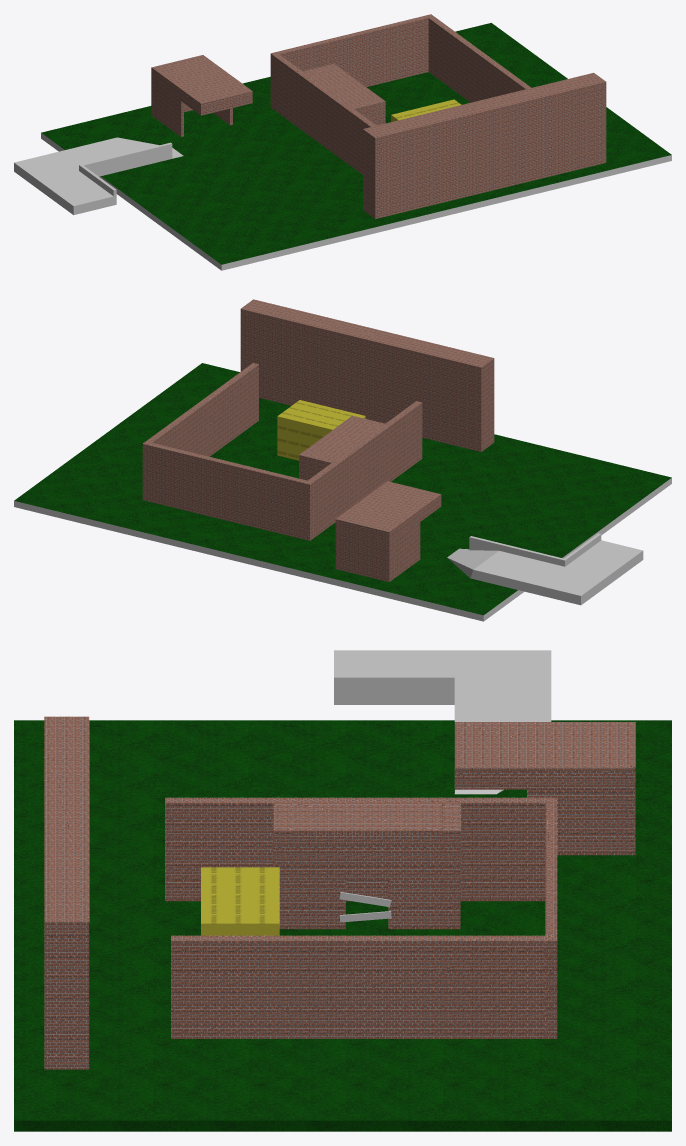
3 views of the same model, one above another, from view 1: azimuth 30°, elevation 25°; view 2: azimuth 150°, elevation 25°; view 3: azimuth 270°, elevation 25° (orthographic). The views are drawn at different scales.
Parts seen in each view (by area): view 1: entity0_brush11, entity0_brush3, entity0_brush2, entity0_brush0, entity0_brush1, entity0_brush4, entity0_brush14, entity0_brush13, entity0_brush16, entity0_brush7, entity0_brush12, entity0_brush18 (+2 smaller); view 2: entity0_brush11, entity0_brush3, entity0_brush2, entity0_brush0, entity0_brush1, entity0_brush4, entity3_brush0, entity0_brush13, entity0_brush17, entity0_brush12, entity0_brush14, entity0_brush7 (+3 smaller); view 3: entity0_brush11, entity0_brush1, entity0_brush0, entity0_brush3, entity0_brush4, entity3_brush0, entity0_brush7, entity0_brush9, entity0_brush8, entity0_brush13, entity0_brush19, entity0_brush15 (+7 smaller).
Part boxes in pixels (<box>): entity0_brush11: <box>41,23,671,270</box>; entity0_brush3: <box>363,72,606,218</box>; entity0_brush2: <box>270,15,433,109</box>; entity0_brush0: <box>273,54,376,174</box>; entity0_brush1: <box>425,14,531,102</box>; entity0_brush4: <box>151,55,252,115</box>; entity0_brush14: <box>39,171,113,215</box>; entity0_brush13: <box>14,148,92,189</box>; entity0_brush16: <box>82,142,172,176</box>; entity0_brush7: <box>308,67,380,105</box>; entity0_brush12: <box>75,137,183,161</box>; entity0_brush18: <box>156,83,183,137</box>; entity0_brush11: <box>14,363,671,621</box>; entity0_brush3: <box>240,299,494,451</box>; entity0_brush2: <box>142,441,313,540</box>; entity0_brush0: <box>308,401,422,537</box>; entity0_brush1: <box>142,363,258,465</box>; entity0_brush4: <box>335,481,441,544</box>; entity3_brush0: <box>277,400,365,460</box>; entity0_brush13: <box>518,561,606,605</box>; entity0_brush17: <box>335,528,394,581</box>; entity0_brush12: <box>447,548,543,589</box>; entity0_brush14: <box>565,540,643,585</box>; entity0_brush7: <box>304,419,379,458</box>; entity0_brush11: <box>14,720,671,1131</box>; entity0_brush1: <box>171,935,557,1038</box>; entity0_brush0: <box>165,797,545,901</box>; entity0_brush3: <box>44,716,89,1069</box>; entity0_brush4: <box>454,722,635,789</box>; entity3_brush0: <box>201,867,279,935</box>; entity0_brush7: <box>291,803,442,836</box>; entity0_brush9: <box>388,836,442,929</box>; entity0_brush8: <box>291,836,345,929</box>; entity0_brush13: <box>460,650,551,703</box>; entity0_brush19: <box>527,789,617,855</box>; entity0_brush15: <box>334,675,460,704</box>.
Size of the model in its own units: 2848 by 464 by 1744.
